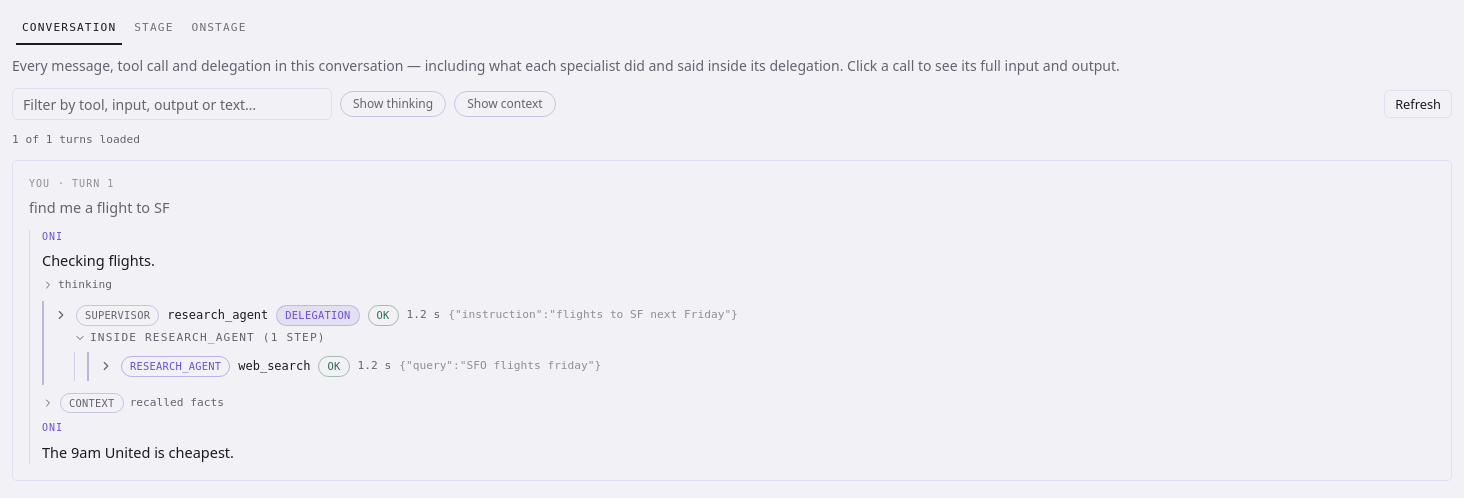
HistoryPanel tabs › opens the Onstage tab on demand too
Expected: the text "find me a flight to SF" is shown, [29, 197, 169, 217]
Click the tab "Onstage" at (219, 28), box [184, 16, 254, 40]
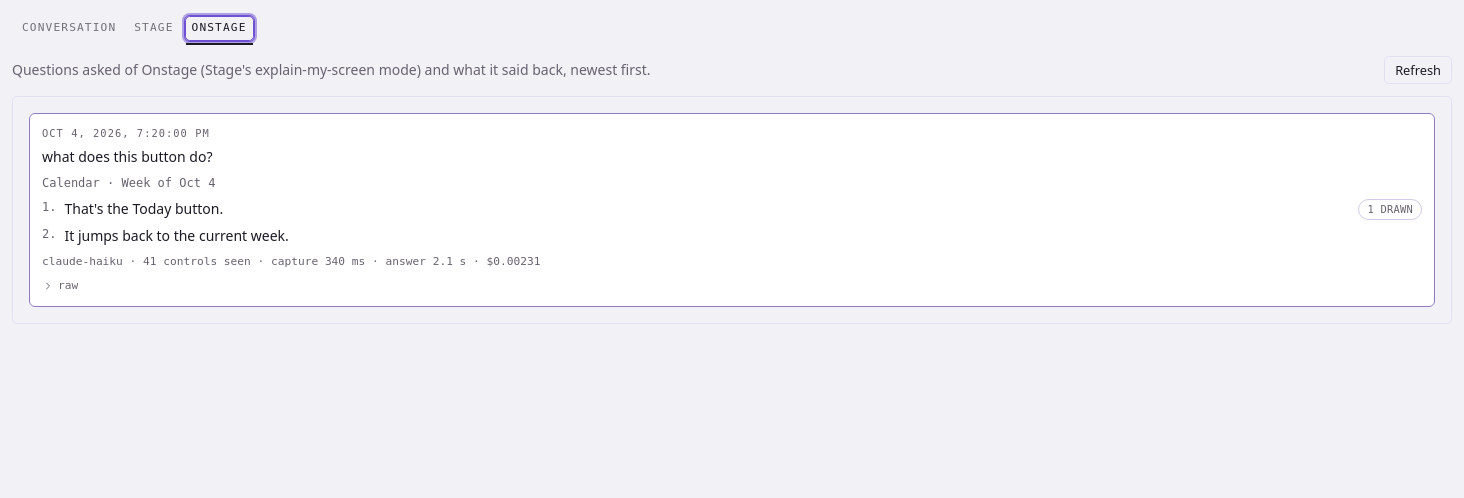
Result: the text "what does this button do?" is shown at [42, 147, 212, 166]
